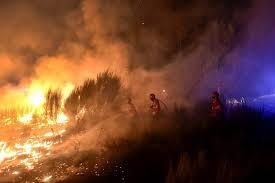fire: (0, 77, 77, 172)
